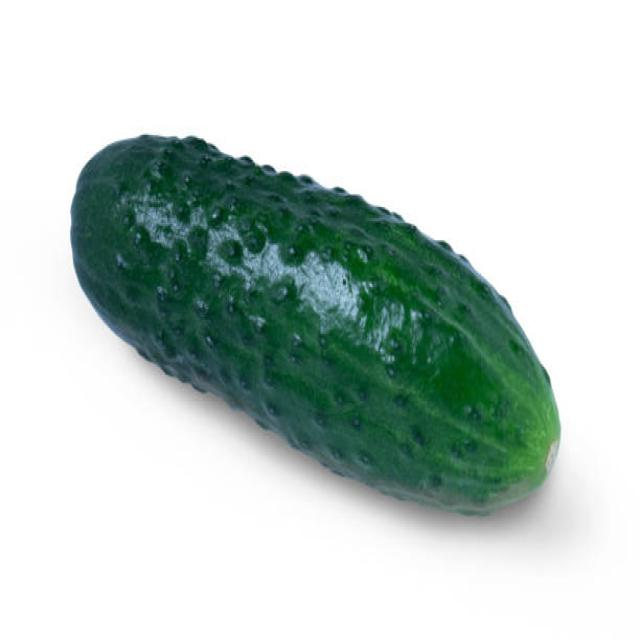cucumber: (69, 132, 561, 518)
